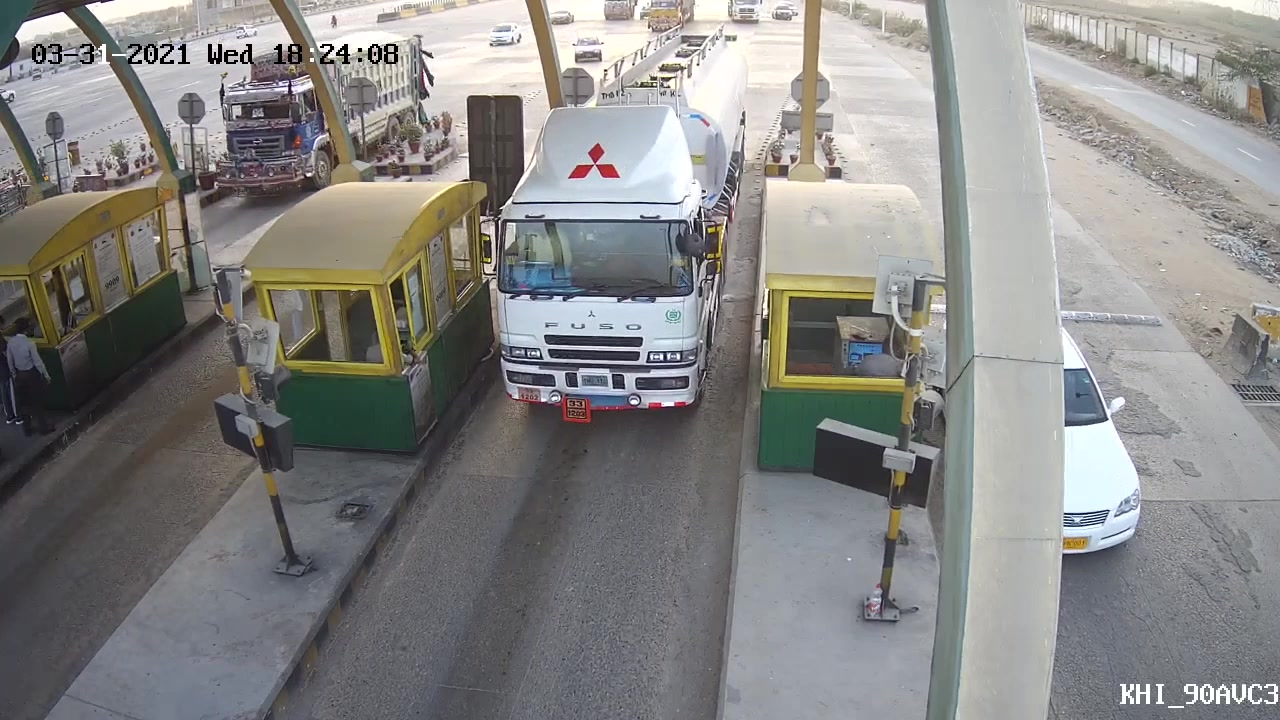F6: (482, 186, 711, 430)
